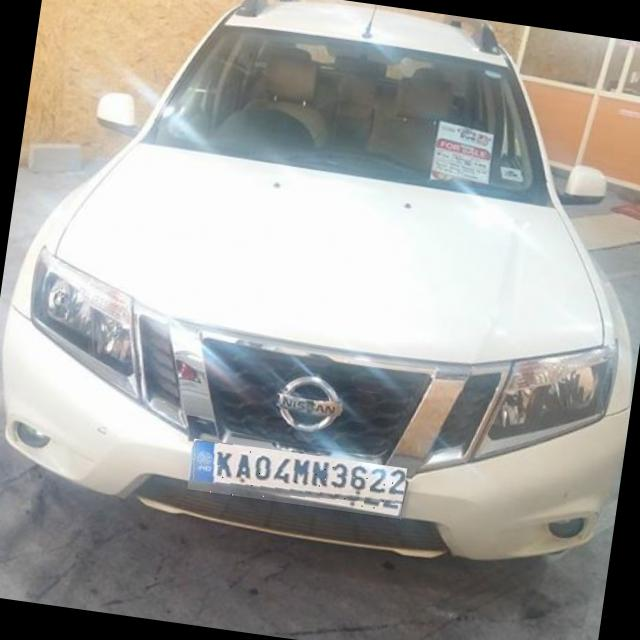Plate: (188, 441, 408, 524)
